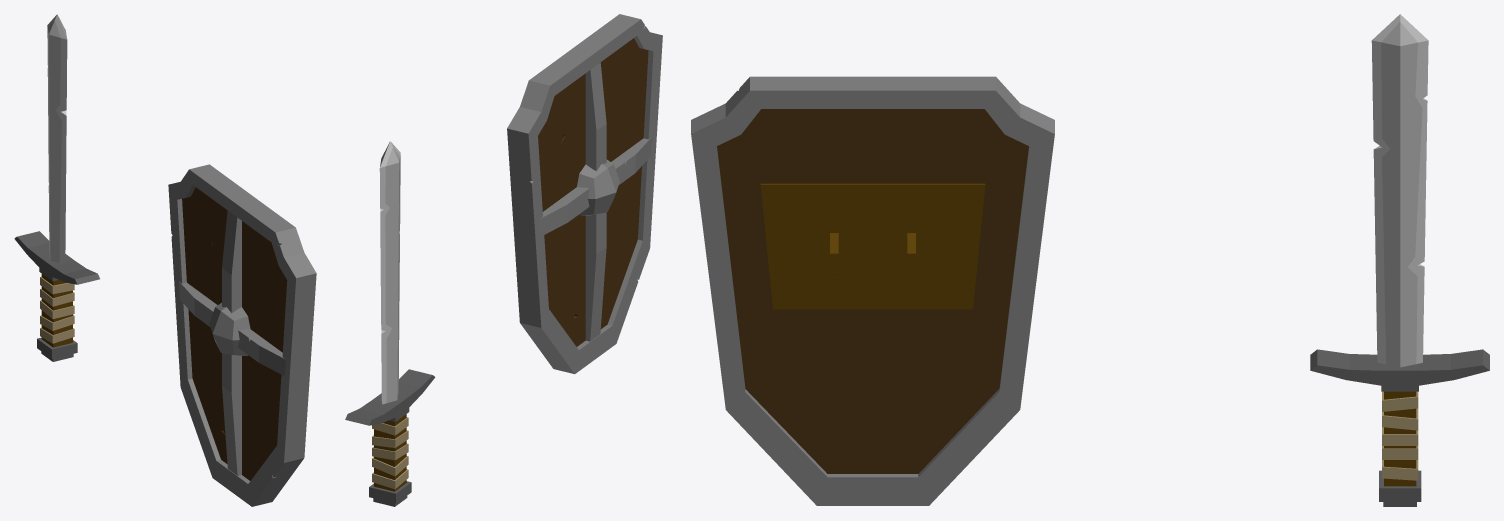
File: Sword_And_Shield.fbx
The picture shows the model from 3 angles, left to right: view 1: azimuth 30°, elevation 25°; view 2: azimuth 150°, elevation 25°; view 3: azimuth 270°, elevation 25°; orthographic projection. The views are drawn at different scales.
Visible parts, largest first — view 1: Cylinder.001, Cylinder, Cube.001, Cube.004, Cube, Cube.003, Cube.002, Cube.006; view 2: Cylinder.001, Cylinder, Cube.001, Cube.004, Cube, Cube.003, Cube.002, Cube.006; view 3: Cylinder, Cylinder.001, Cube.005, Cube.001, Cube, Cube.002.
Part boxes in pixels (left/top/right/bottom): Cylinder.001: left=168, top=164, right=316, bottom=506; Cylinder: left=182, top=187, right=287, bottom=480; Cube.001: left=47, top=14, right=67, bottom=264; Cube.004: left=222, top=210, right=241, bottom=475; Cube: left=14, top=231, right=99, bottom=361; Cube.003: left=179, top=281, right=285, bottom=375; Cube.002: left=40, top=276, right=74, bottom=343; Cube.006: left=209, top=303, right=250, bottom=355; Cylinder.001: left=507, top=14, right=662, bottom=374; Cylinder: left=538, top=38, right=648, bottom=346; Cube.001: left=379, top=141, right=400, bottom=404; Cube.004: left=585, top=62, right=606, bottom=341; Cube: left=345, top=369, right=435, bottom=506; Cube.003: left=539, top=137, right=651, bottom=236; Cube.002: left=372, top=417, right=408, bottom=489; Cube.006: left=577, top=159, right=619, bottom=215; Cylinder: left=717, top=109, right=1028, bottom=473; Cylinder.001: left=691, top=76, right=1054, bottom=505; Cube.005: left=760, top=183, right=985, bottom=309; Cube.001: left=1371, top=14, right=1428, bottom=367; Cube: left=1310, top=349, right=1489, bottom=506; Cube.002: left=1382, top=391, right=1418, bottom=480.
Bounding box in the file's own units: 61.1 × 316 × 472.
Materials: 8 (8 with a texture image).
